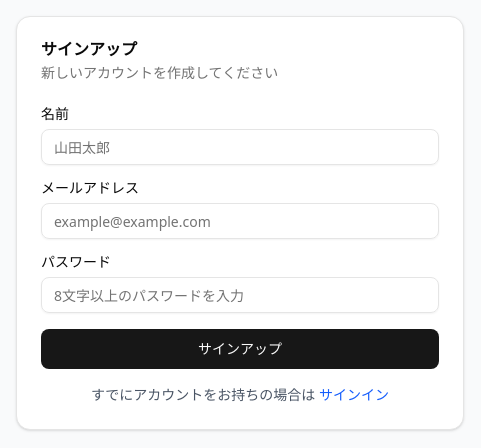
Test: SignUpPage › should show loading state when submitting
Type "Test User" into the field labelled "名前".
click(240, 147); type("Test User")  # box [41,129,439,165]
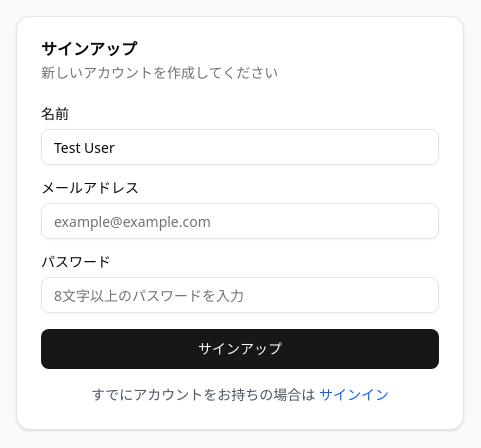
Type "test@example.com" into the field labelled "メールアドレス".
click(240, 221); type("test@example.com")  # box [41,203,439,239]
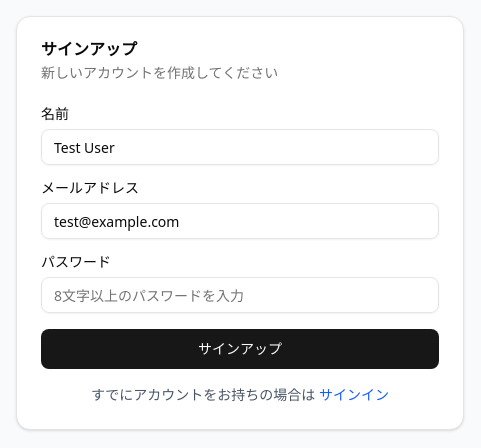
Type "password123" into the password field labelled "パスワード".
click(240, 295); type("password123")  # box [41,277,439,313]
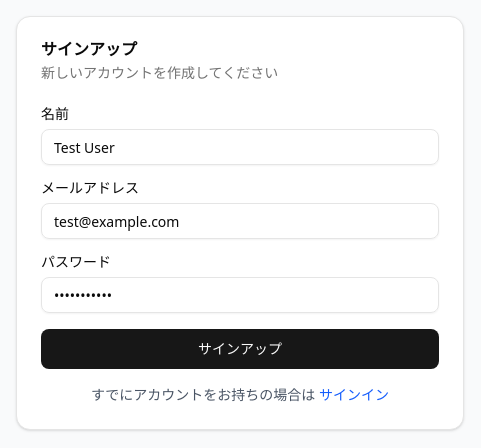
Click the button "サインアップ".
click(240, 349)  # box [41,329,439,369]
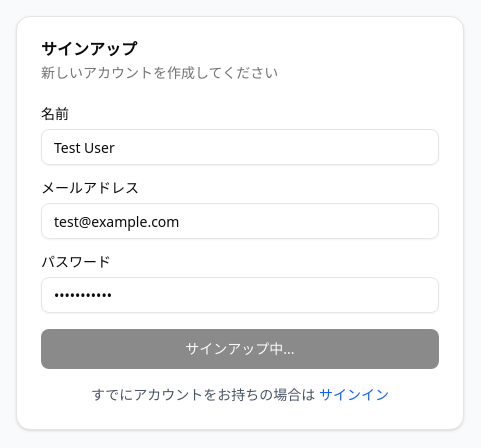
Now the button "サインアップ中..." is shown, box [41,329,439,369]
